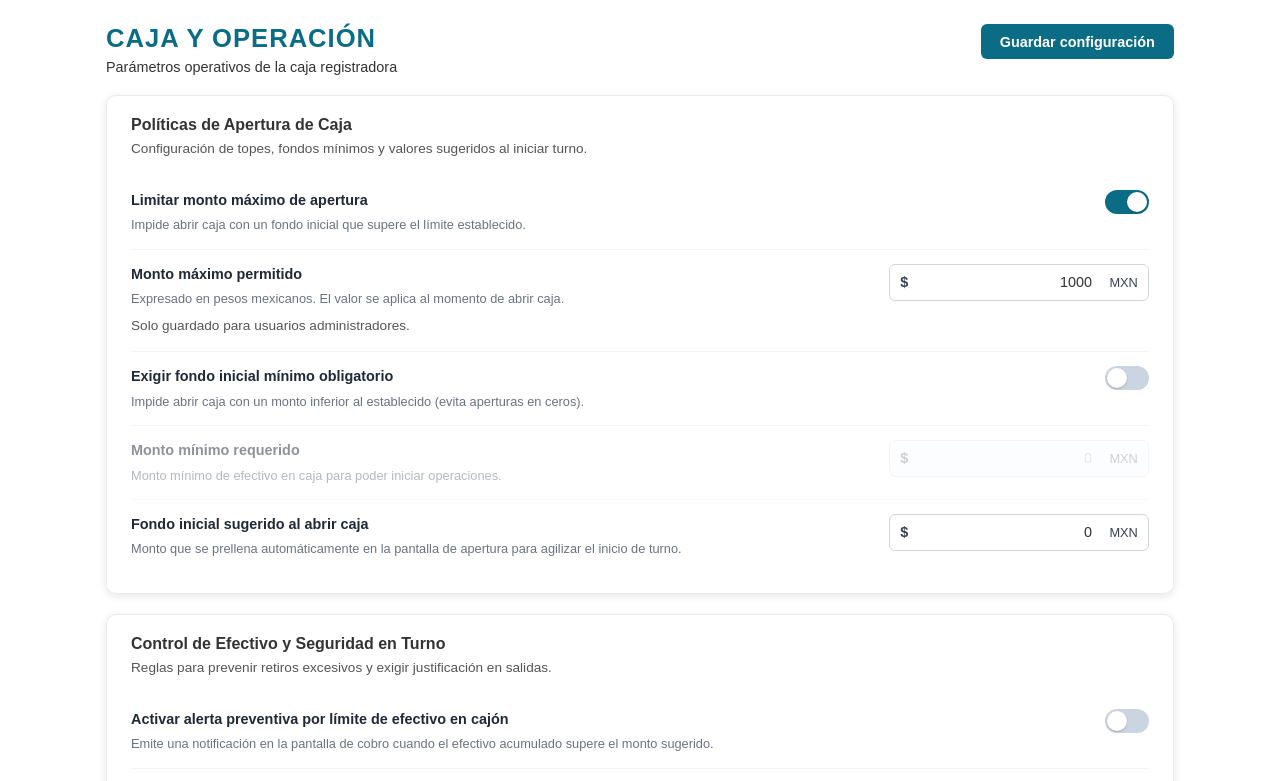
SettingsCash › guarda el tope y anuncia el éxito con role=status
Replace the text in the number field named "Monto máximo" in the row of "Monto máximo permitido" with "2500" at (1019, 282), box [889,264,1149,301]
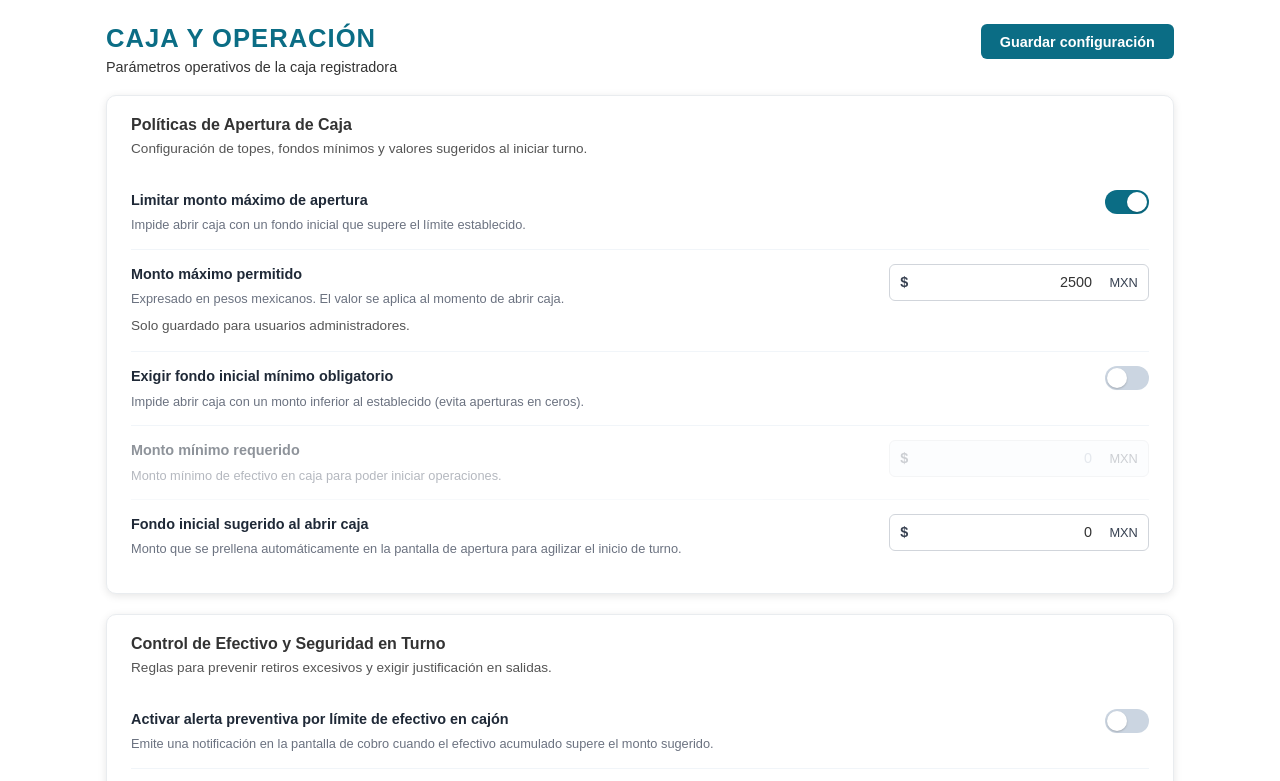
Click the button "Guardar configuración" at (1077, 42), box [980,24,1174,59]
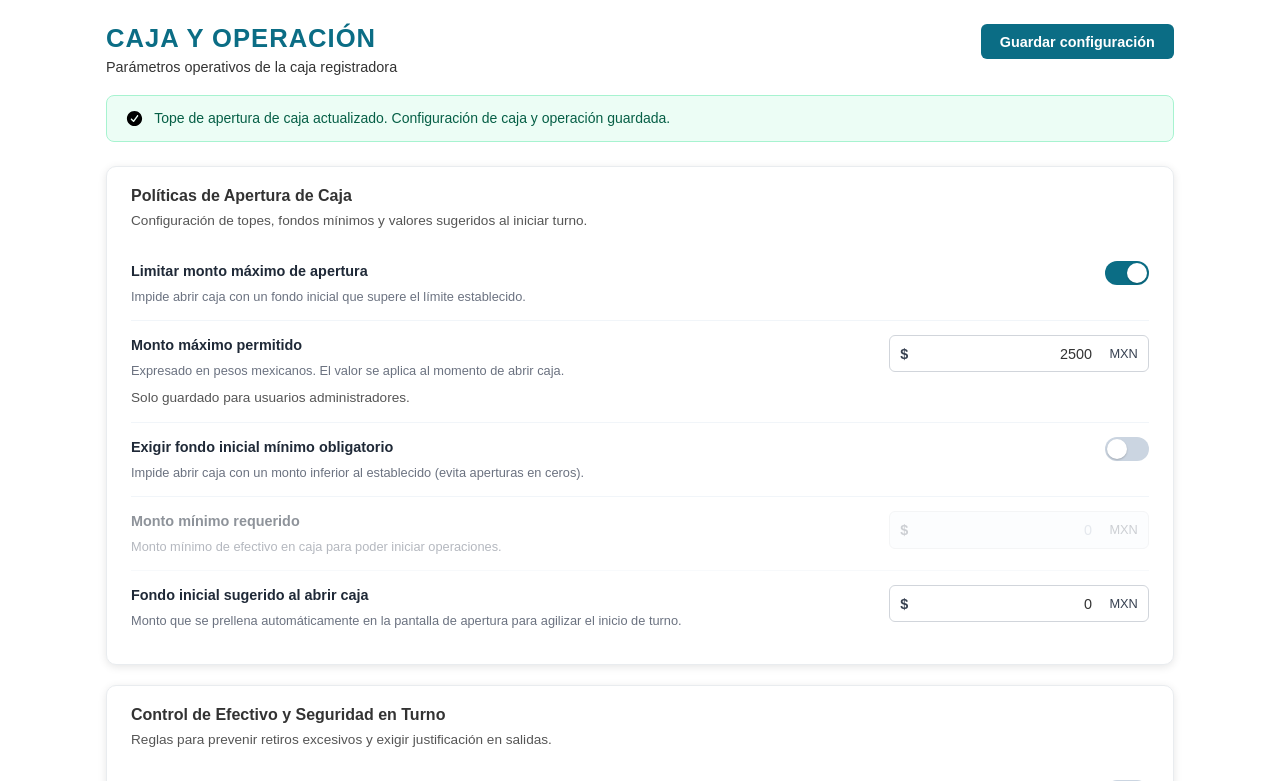
Now the message shows "Tope de apertura de caja actualizado.", box [154,110,670,126]
